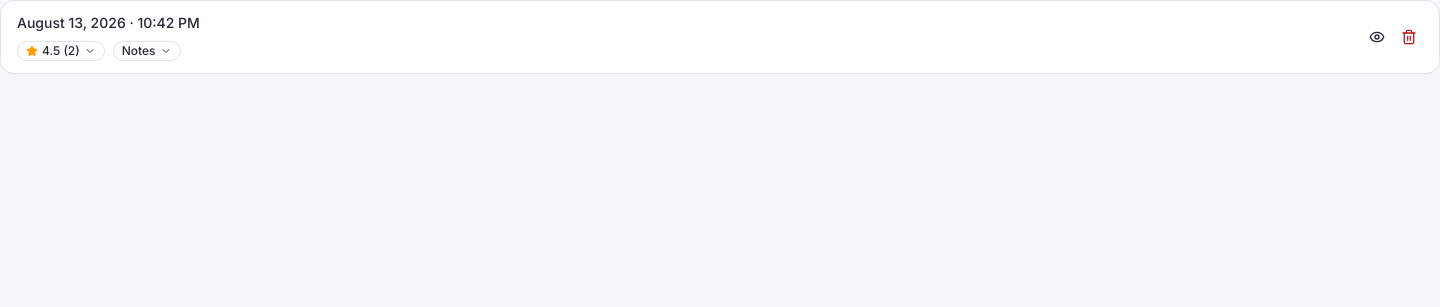
DishCompletedSessionCard › expands Ratings and Notes independently, and renders both — Ratings then Notes — when both are open
The image size is (1440, 307).
Click the button "4.5 (2)" at (61, 51), box [17,41,105,61]
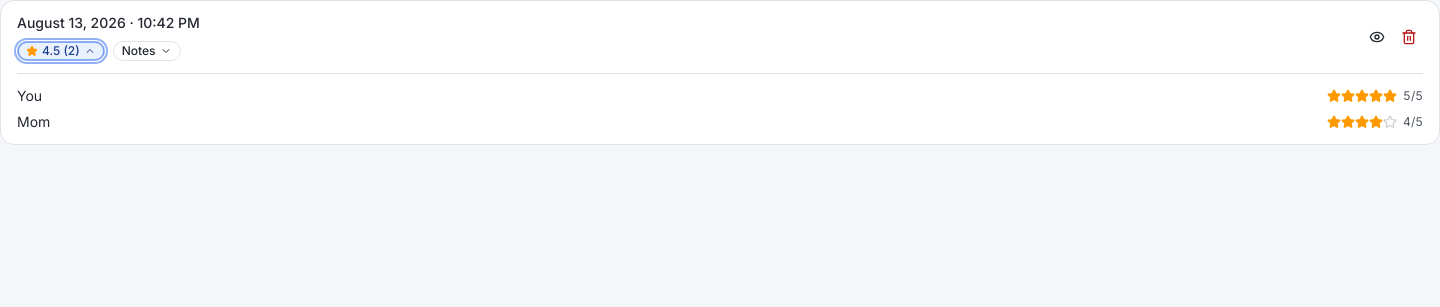
Expected: the text "Full recipe" is not shown
Expected: the text "Mom" is shown, [17,112,50,132]
Click the button "Notes" at (147, 51), box [113,41,180,61]
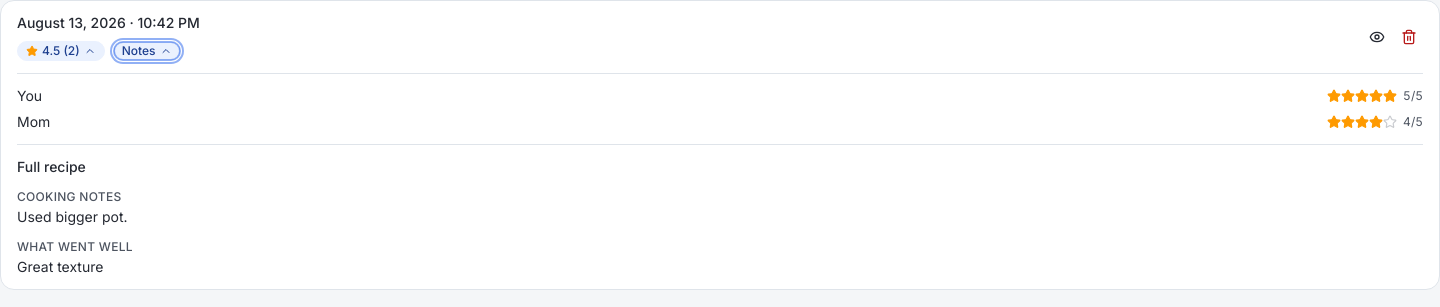
Expected: the text "Mom" is shown, [17,112,50,132]
Expected: the text "Full recipe" is shown, [17,158,86,175]
